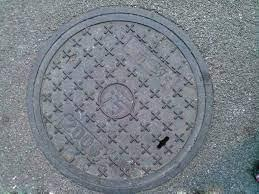wellcover: (21, 10, 222, 192)
